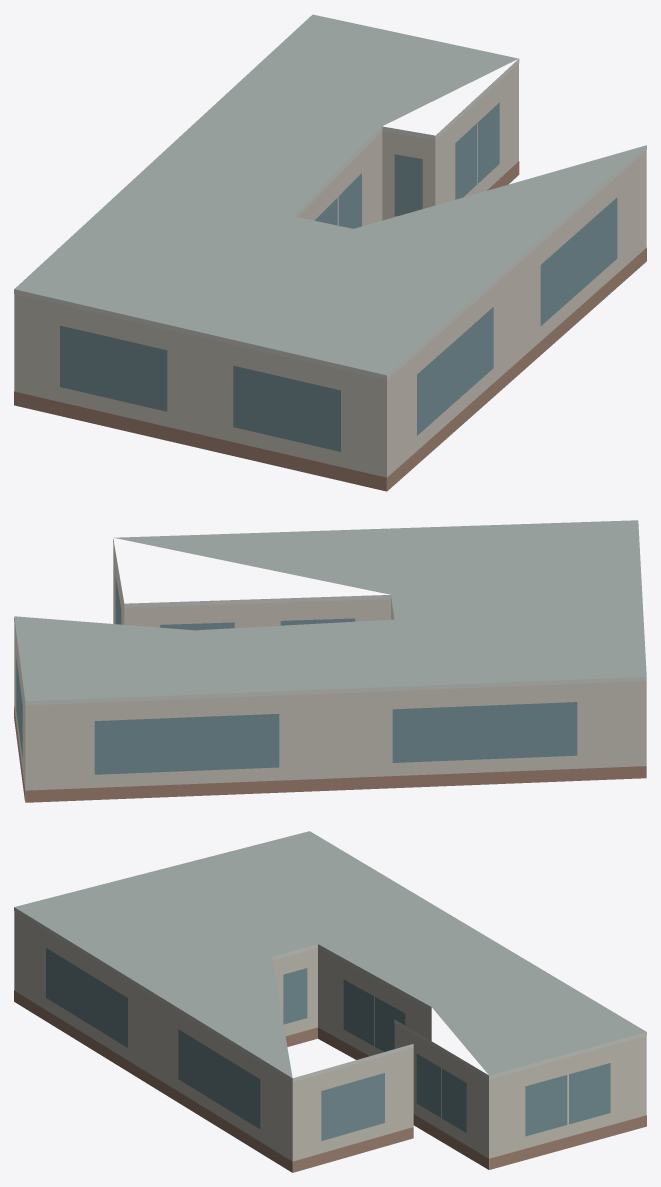
File: survey-upis-32767668.glb
3 renders of one model, top to bottom at view 1: azimuth 30°, elevation 25°; view 2: azimuth 150°, elevation 25°; view 3: azimuth 270°, elevation 25°, orthographic. The views are drawn at different scales.
Parts seen in each view (by area): view 1: survey-upis-32767668.tmp; view 2: survey-upis-32767668.tmp; view 3: survey-upis-32767668.tmp.
Boxes of the visible parts, x1,y1,x2,y2 form: survey-upis-32767668.tmp: [14, 14, 646, 491]; survey-upis-32767668.tmp: [14, 520, 646, 802]; survey-upis-32767668.tmp: [14, 831, 646, 1172].
Bounding box in the file's own units: 17.11 × 3.05 × 18.51.
